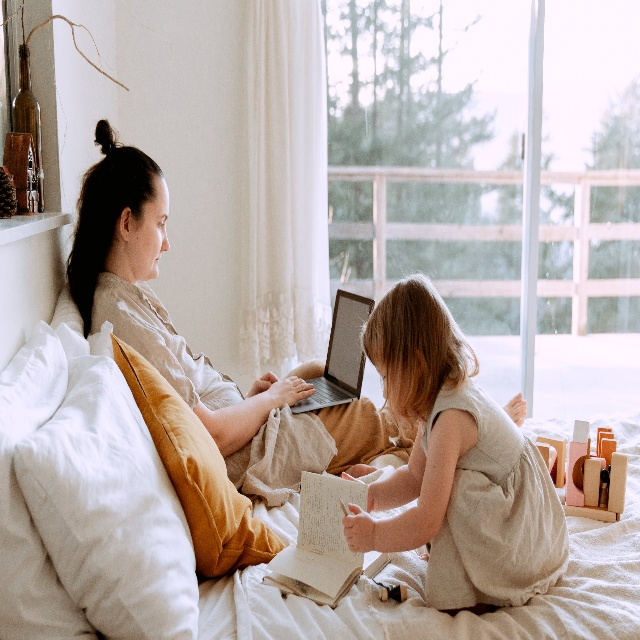Sin_guantes: (266, 373, 316, 410), (341, 500, 375, 554), (341, 471, 374, 516), (247, 372, 279, 397)
